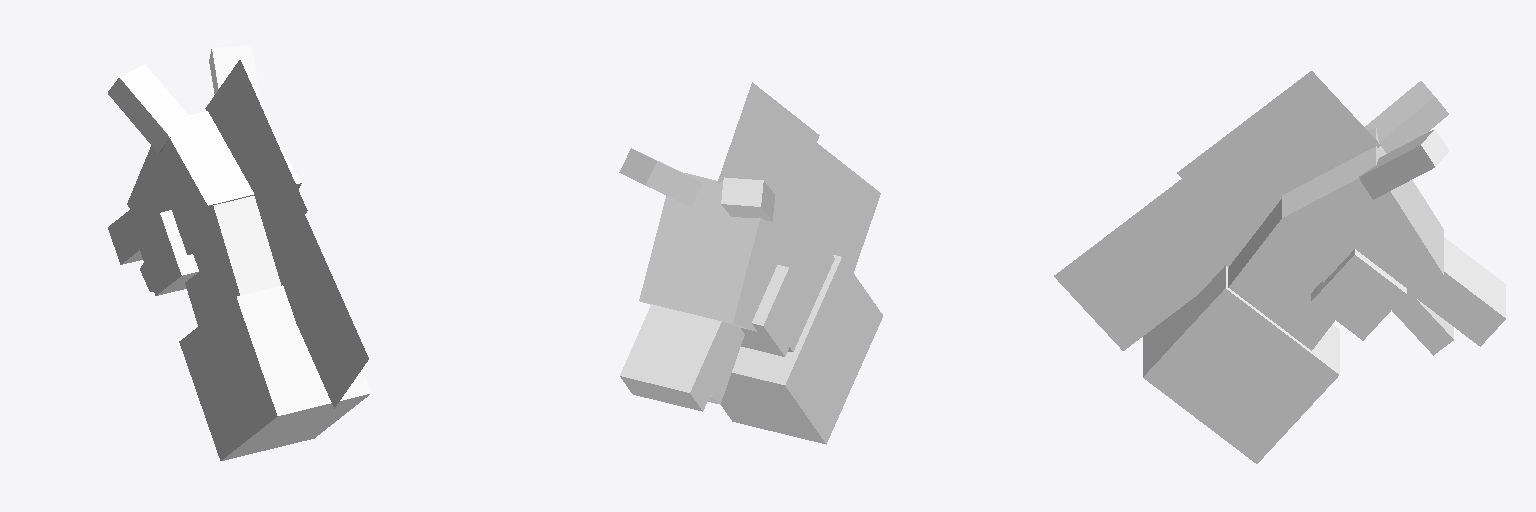
File: mt_horse_tf.obj
3 renders of one model, left to right at view 1: azimuth 30°, elevation 25°; view 2: azimuth 150°, elevation 25°; view 3: azimuth 270°, elevation 25°, orthographic.
Parts seen in each view (by area): view 1: cube, cube.002, cube.000, cube.008, cube.001, cube.003, cube.006, cube.004, cube.005; view 2: cube.002, cube, cube.005, cube.008, cube.000, cube.006, cube.004, cube.001, cube.003, cube.007; view 3: cube, cube.000, cube.008, cube.002, cube.001, cube.005, cube.006, cube.003, cube.004, cube.007.
Boxes of the visible parts, box(x1,y1,x2,y2) form: cube: box(179, 285, 371, 460); cube.002: box(127, 111, 301, 254); cube.000: box(273, 213, 368, 408); cube.008: box(205, 60, 307, 256); cube.001: box(185, 196, 280, 326); cube.003: box(108, 64, 188, 152); cube.006: box(134, 210, 198, 295); cube.004: box(209, 45, 261, 106); cube.005: box(108, 210, 142, 264); cube.002: box(639, 172, 813, 331); cube: box(721, 255, 882, 444); cube.005: box(620, 304, 739, 411); cube.008: box(717, 82, 819, 201); cube.000: box(797, 143, 880, 272); cube.006: box(741, 265, 810, 356); cube.004: box(619, 148, 702, 206); cube.001: box(788, 216, 834, 351); cube.003: box(721, 177, 774, 221); cube.007: box(708, 328, 744, 404); cube: box(1143, 265, 1339, 463); cube.000: box(1054, 179, 1244, 350); cube.008: box(1177, 71, 1380, 245); cube.002: box(1282, 127, 1443, 295); cube.001: box(1228, 199, 1334, 350); cube.005: box(1410, 237, 1505, 346); cube.006: box(1311, 249, 1406, 340); cube.003: box(1365, 81, 1448, 153); cube.004: box(1359, 129, 1448, 199); cube.007: box(1392, 294, 1453, 355).
Size of the model in its own units: 0.7311 by 1.83 by 2.02.